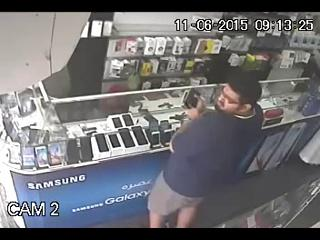Normal: (146, 69, 266, 227)
